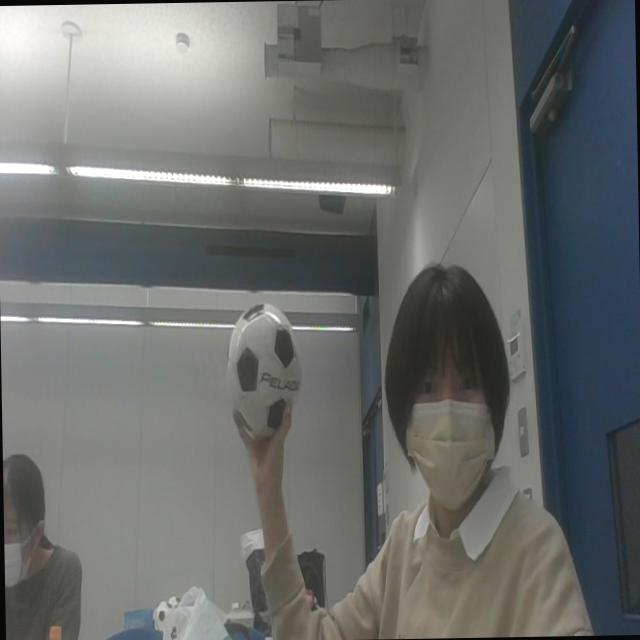Soccer Ball: (228, 302, 302, 440)
